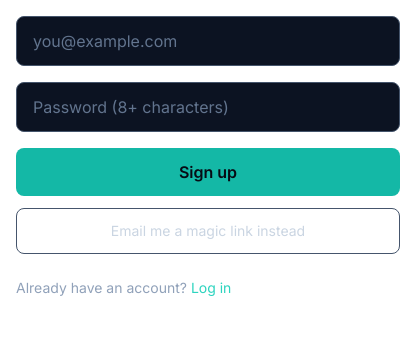
Test: AuthForm signup › surfaces a sign up error
Type "a@b.com" into the field with placeholder "you@example.com" at [208, 41], box [16,16,400,66]
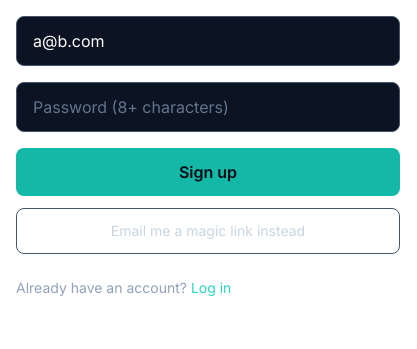
Type "password123" into the password field with placeholder "Password (8+ characters)" at [208, 107], box [16,82,400,132]
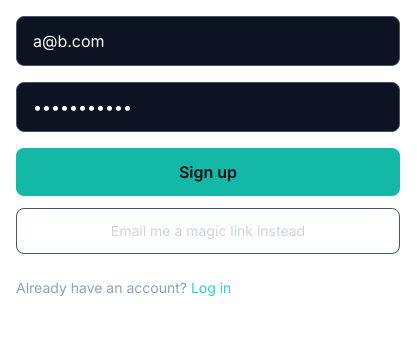
Click the button "Sign up" at [208, 172], box [16,148,400,196]
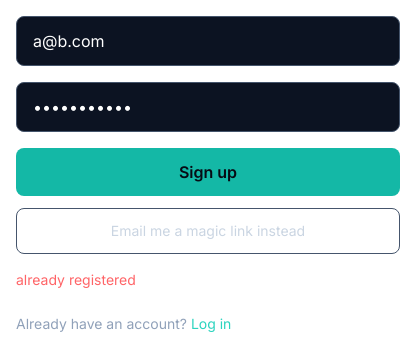
Expected: the text "already registered" is shown, [16,271,136,288]
